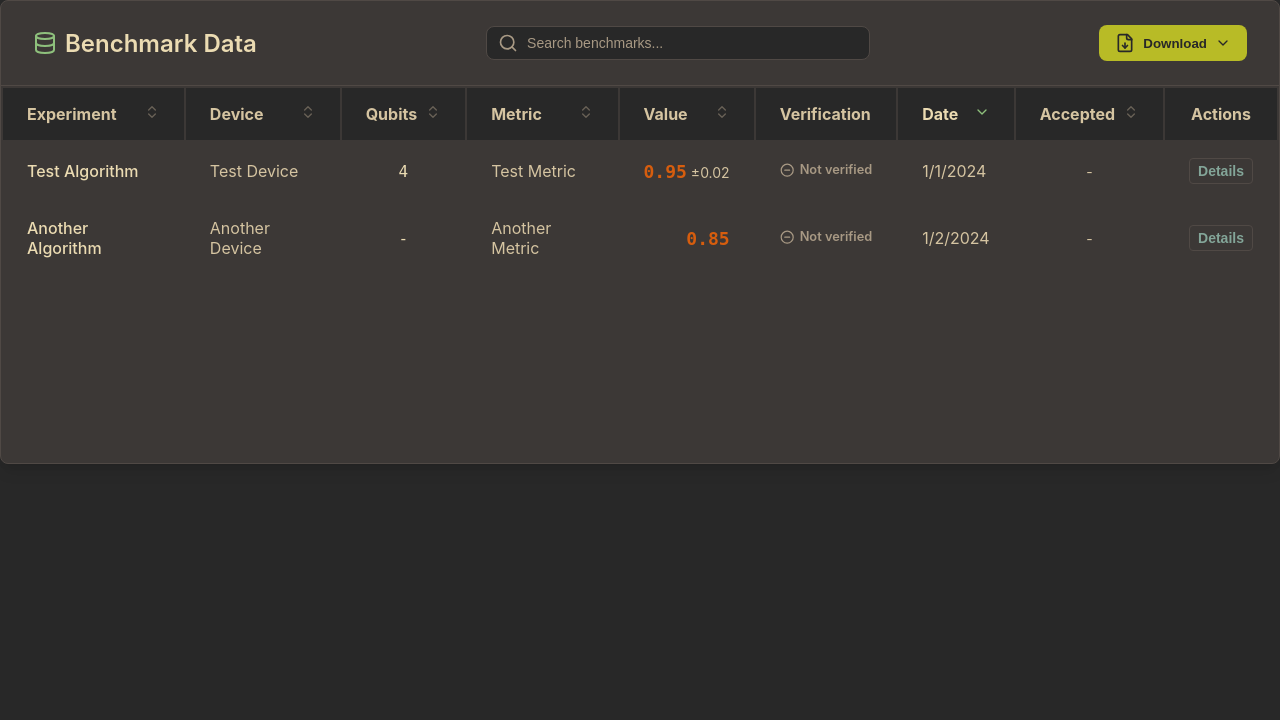
Scenario: BenchmarkTable › shows unified fidelities section in modal
Click the text "Test Algorithm". click: (93, 171)
box: [3, 142, 184, 200]
(page scrolled)
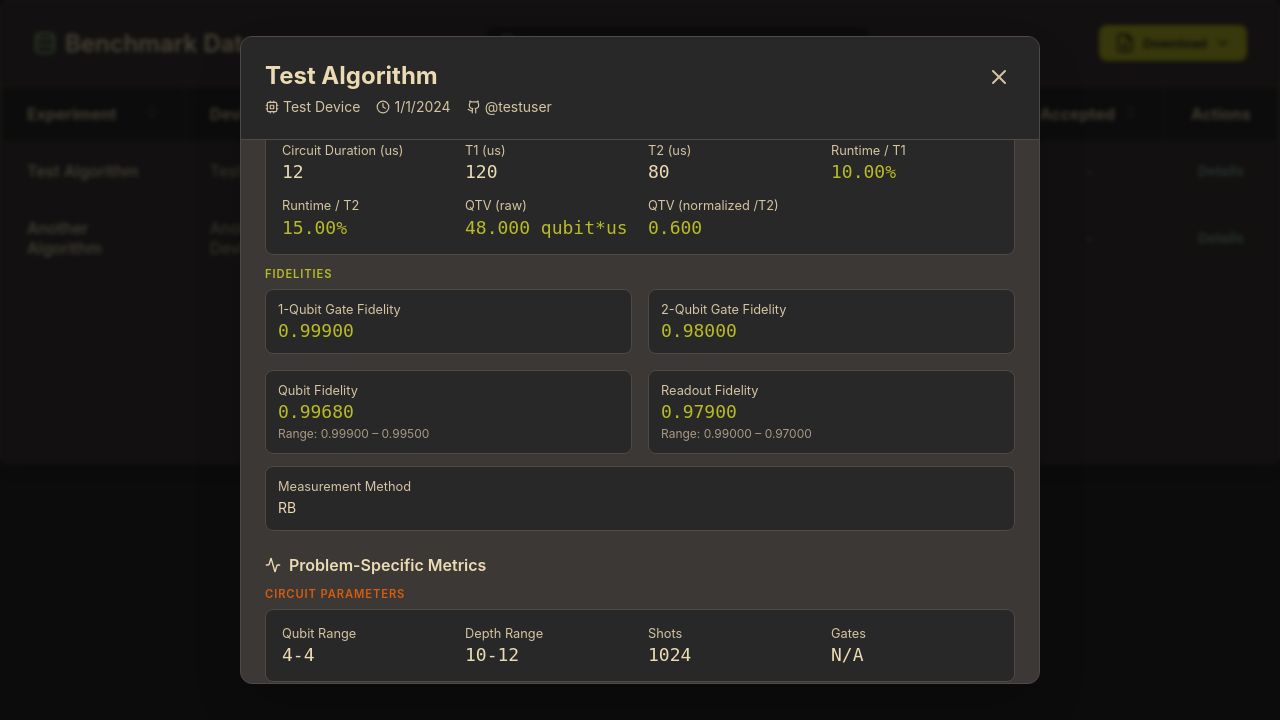
Now the text "Fidelities" is shown, box [265, 267, 332, 281]
Now the text "Readout Fidelity" is shown, box [661, 383, 758, 398]
Now the text "Qubit Fidelity" is shown, box [278, 383, 358, 398]
